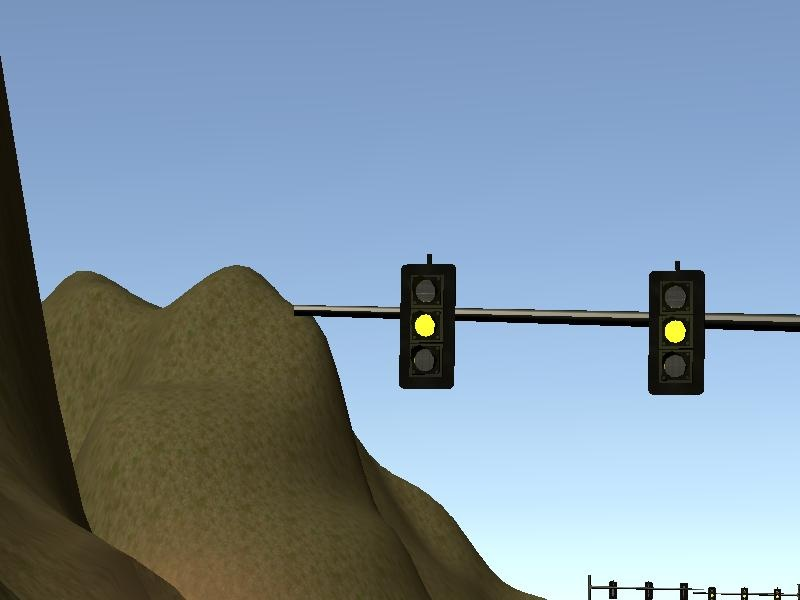YELLOW: (398, 261, 460, 391), (645, 267, 707, 397)
